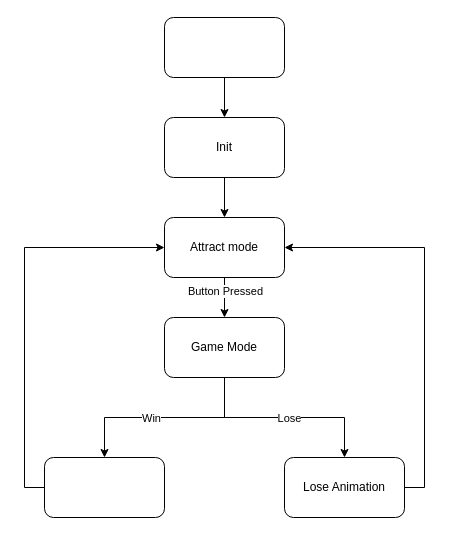
Image size: 450x535. Some labels were removed from this diagram. Here are the shapes that lost their labels. From the top down, the centre of each, then its label:
(x=224, y=47): Start
(x=104, y=487): Win Animation
